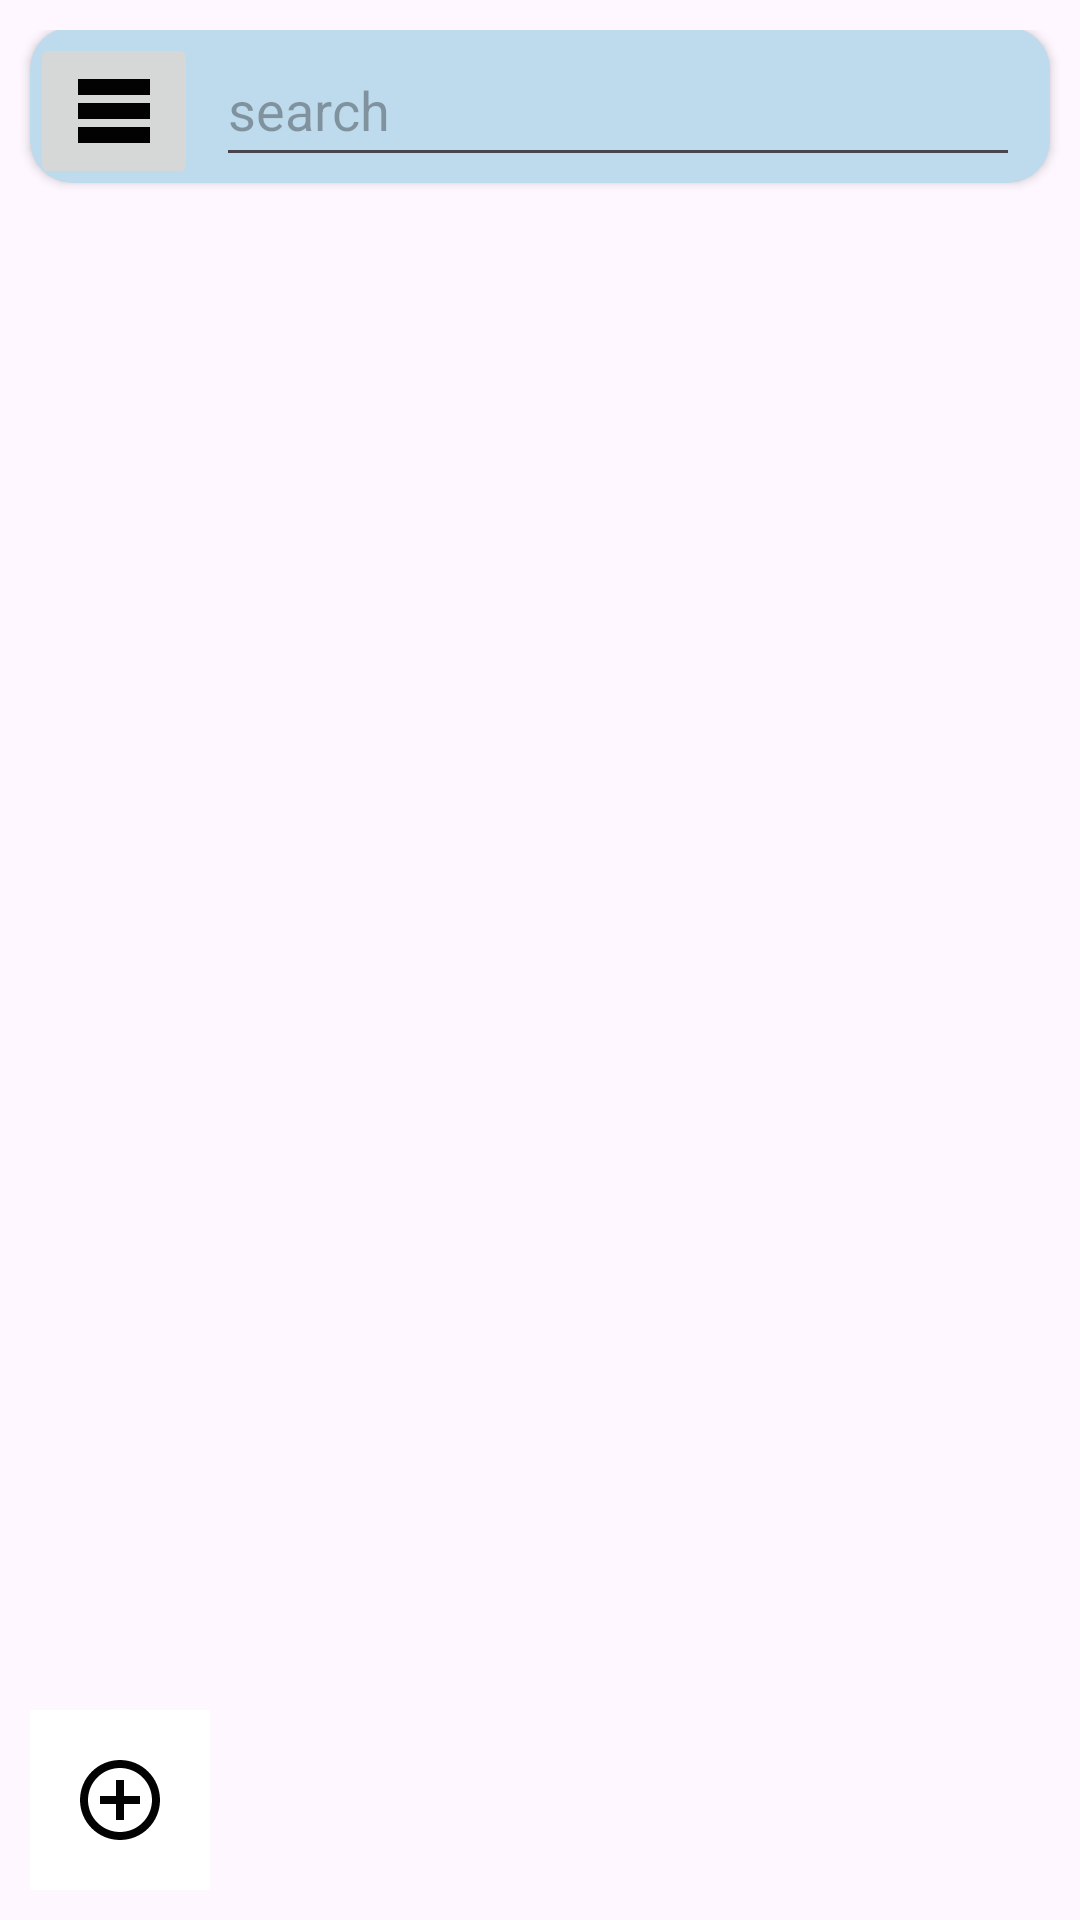

Named icons in this screenshot (1080px×1920px) and their bounding boxes, (x1, y1, x2, y2):
plus sign: (80, 1760, 160, 1840)
